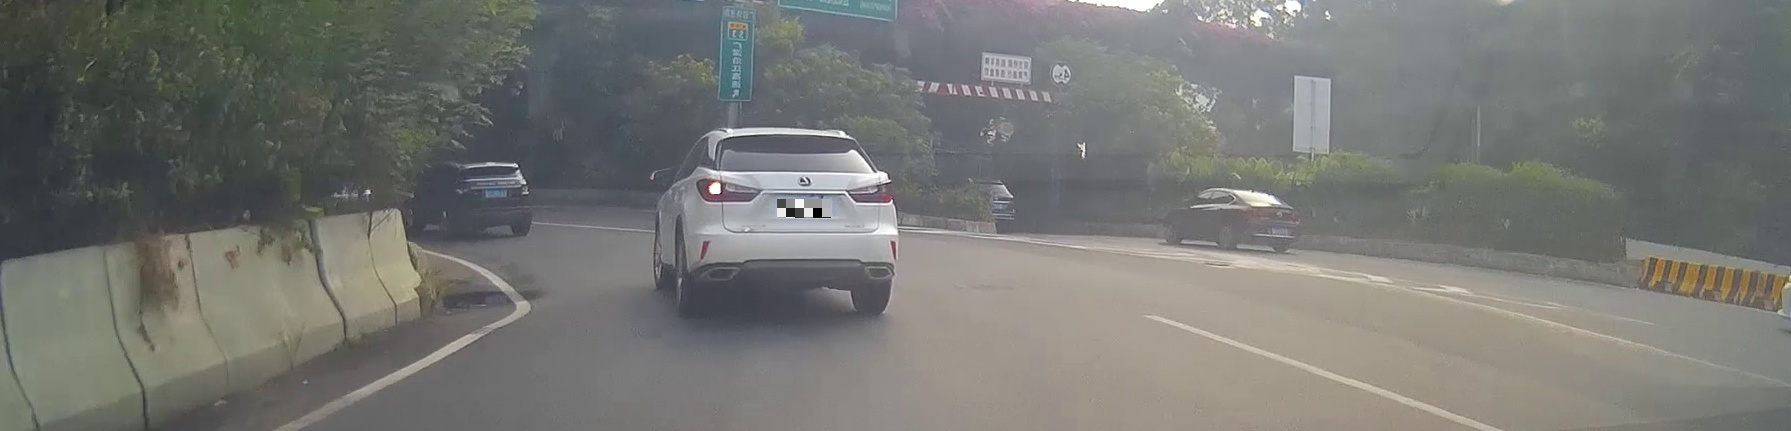L_light: (696, 178, 763, 203)
R_light: (845, 179, 894, 203)
T_light: (773, 131, 808, 138)
day-left: (690, 127, 898, 317)
plate_1: (777, 199, 832, 218)
